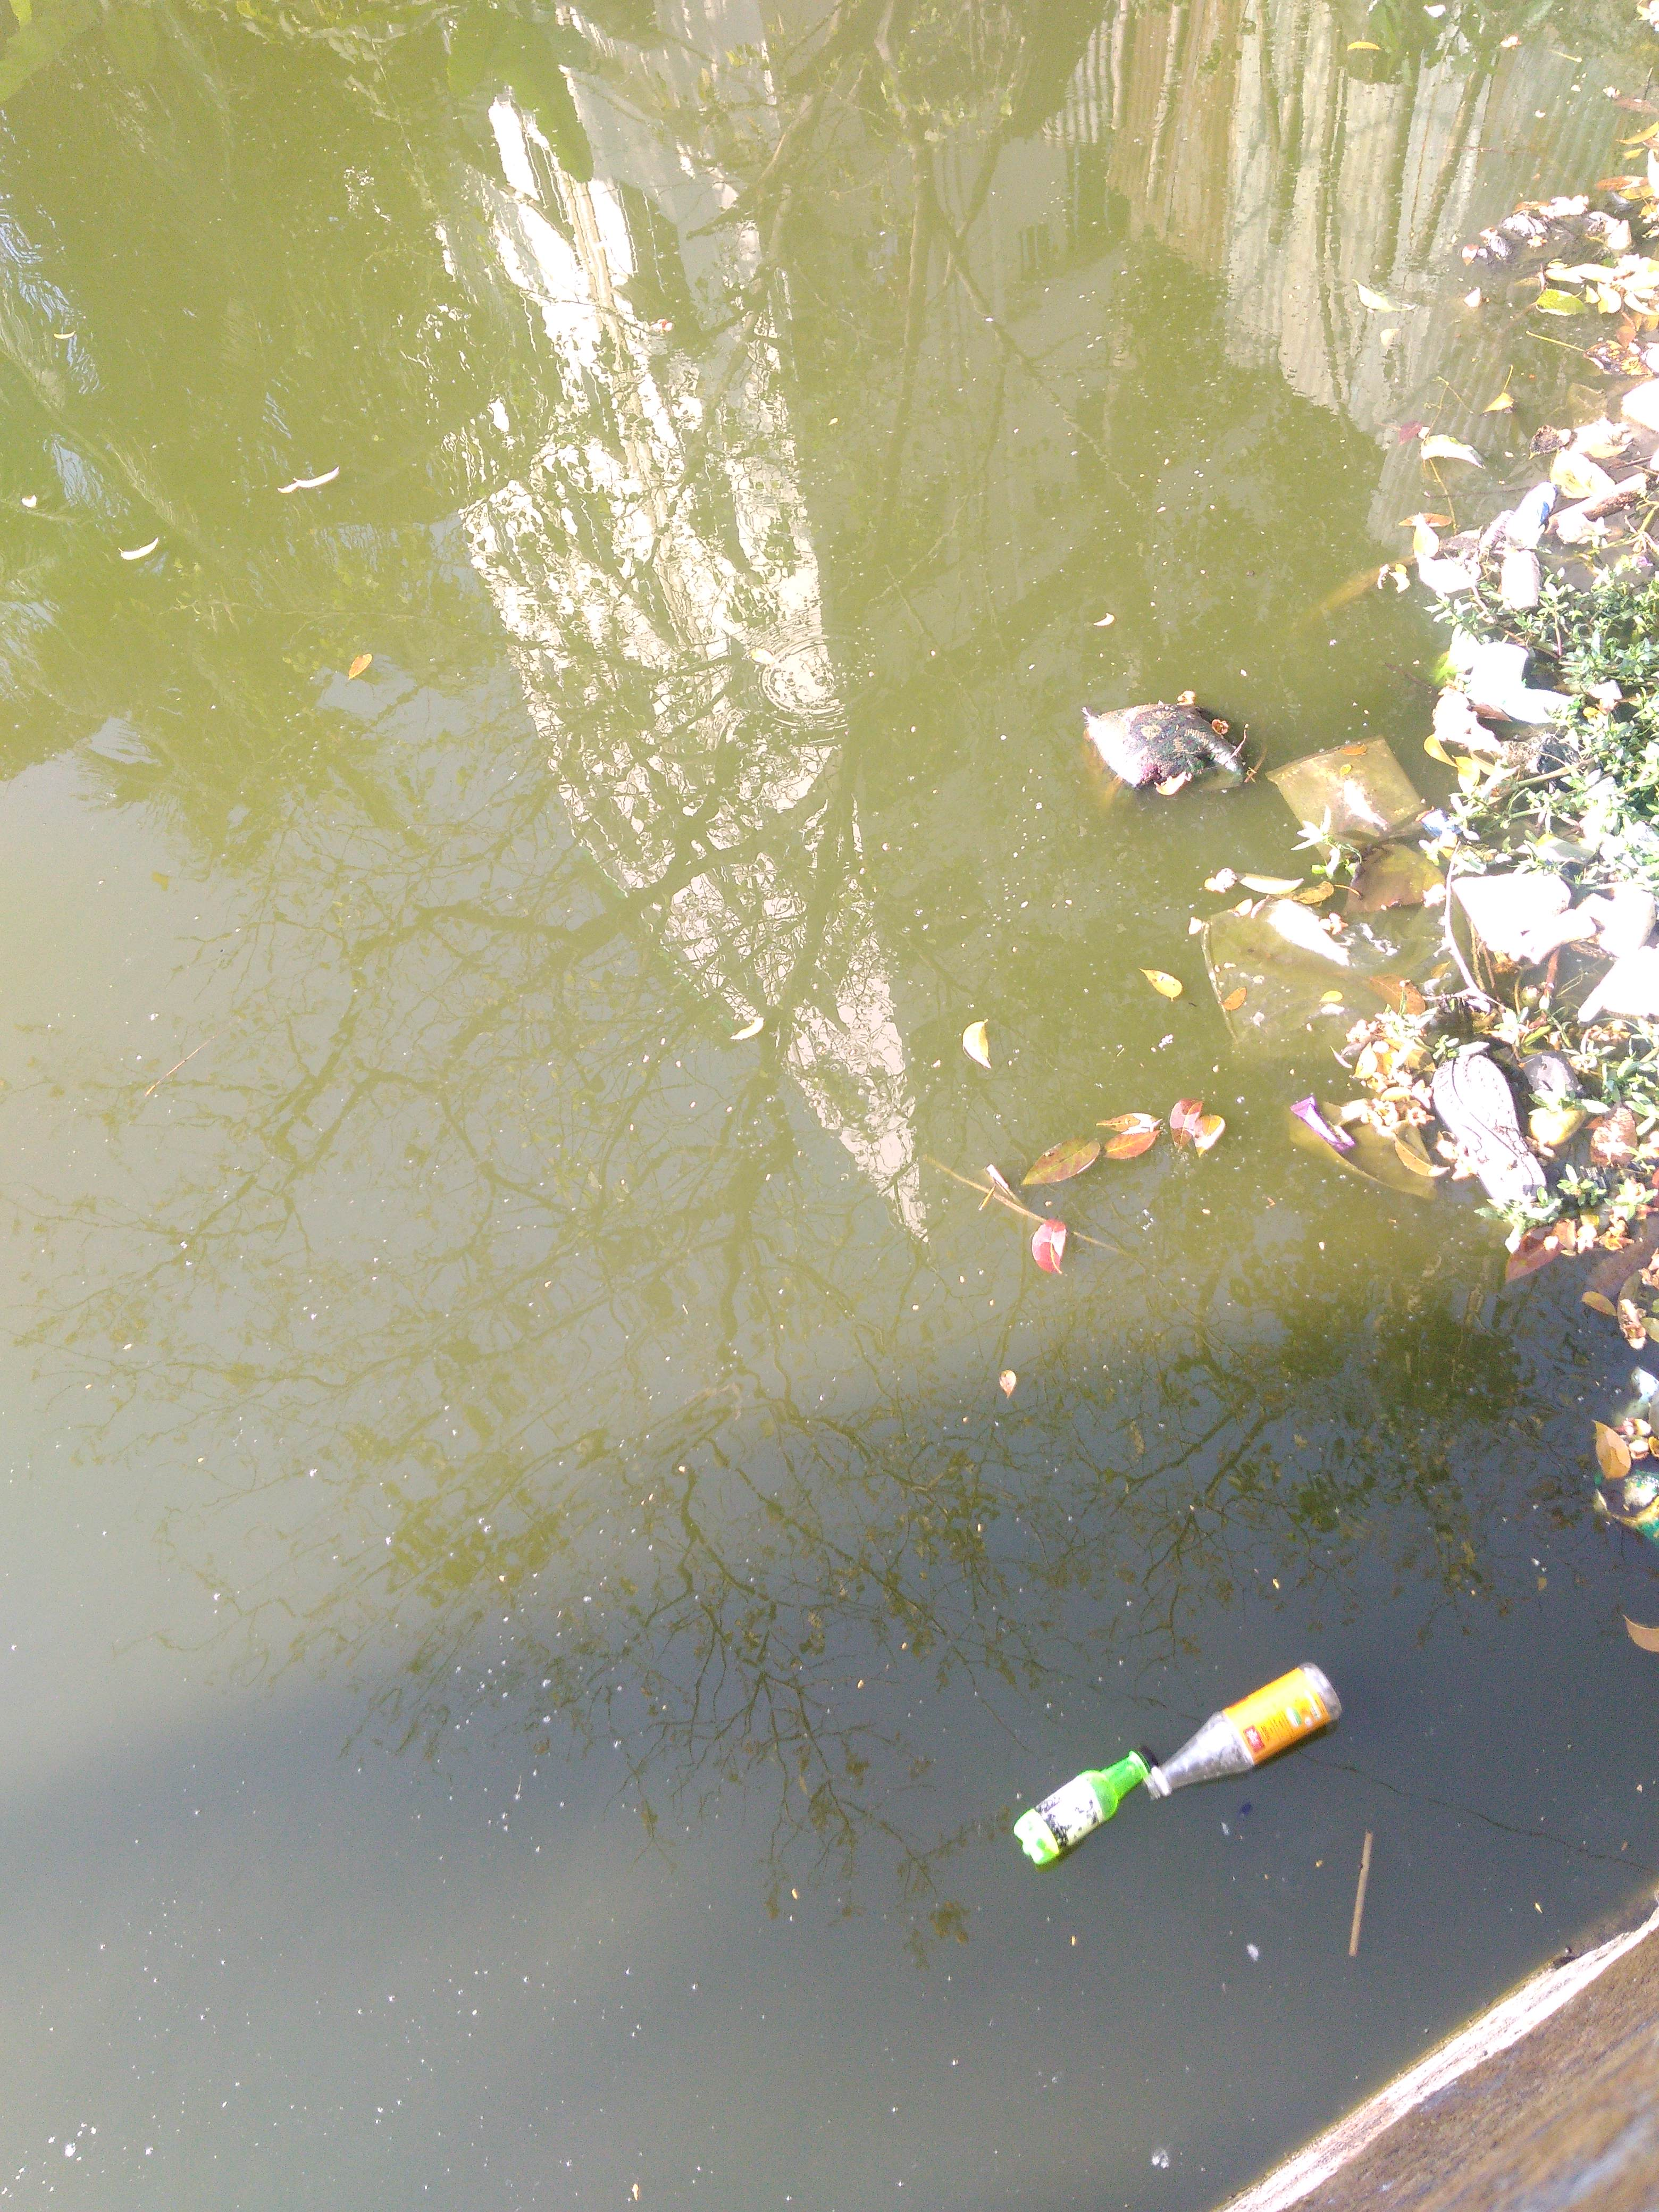Plastic Bottle: (1143, 1662, 1342, 1799), (1014, 1745, 1159, 1865), (1506, 482, 1556, 545), (1478, 509, 1514, 550), (1556, 510, 1595, 543)
